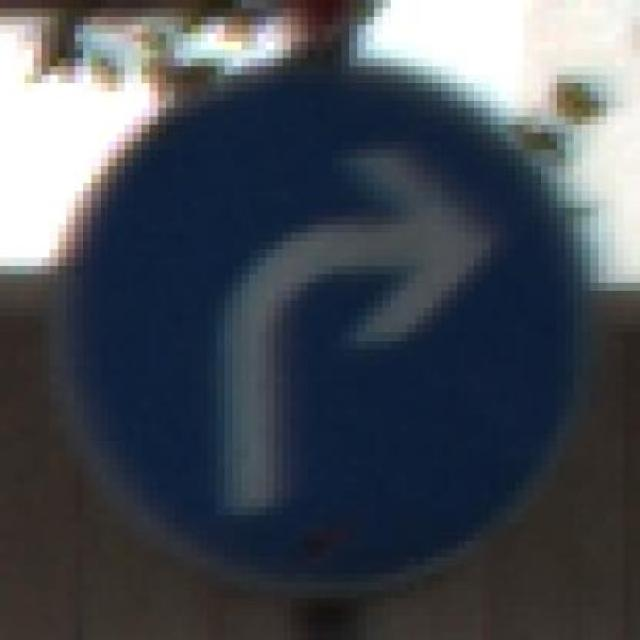Turn right ahead: (50, 58, 607, 590)
